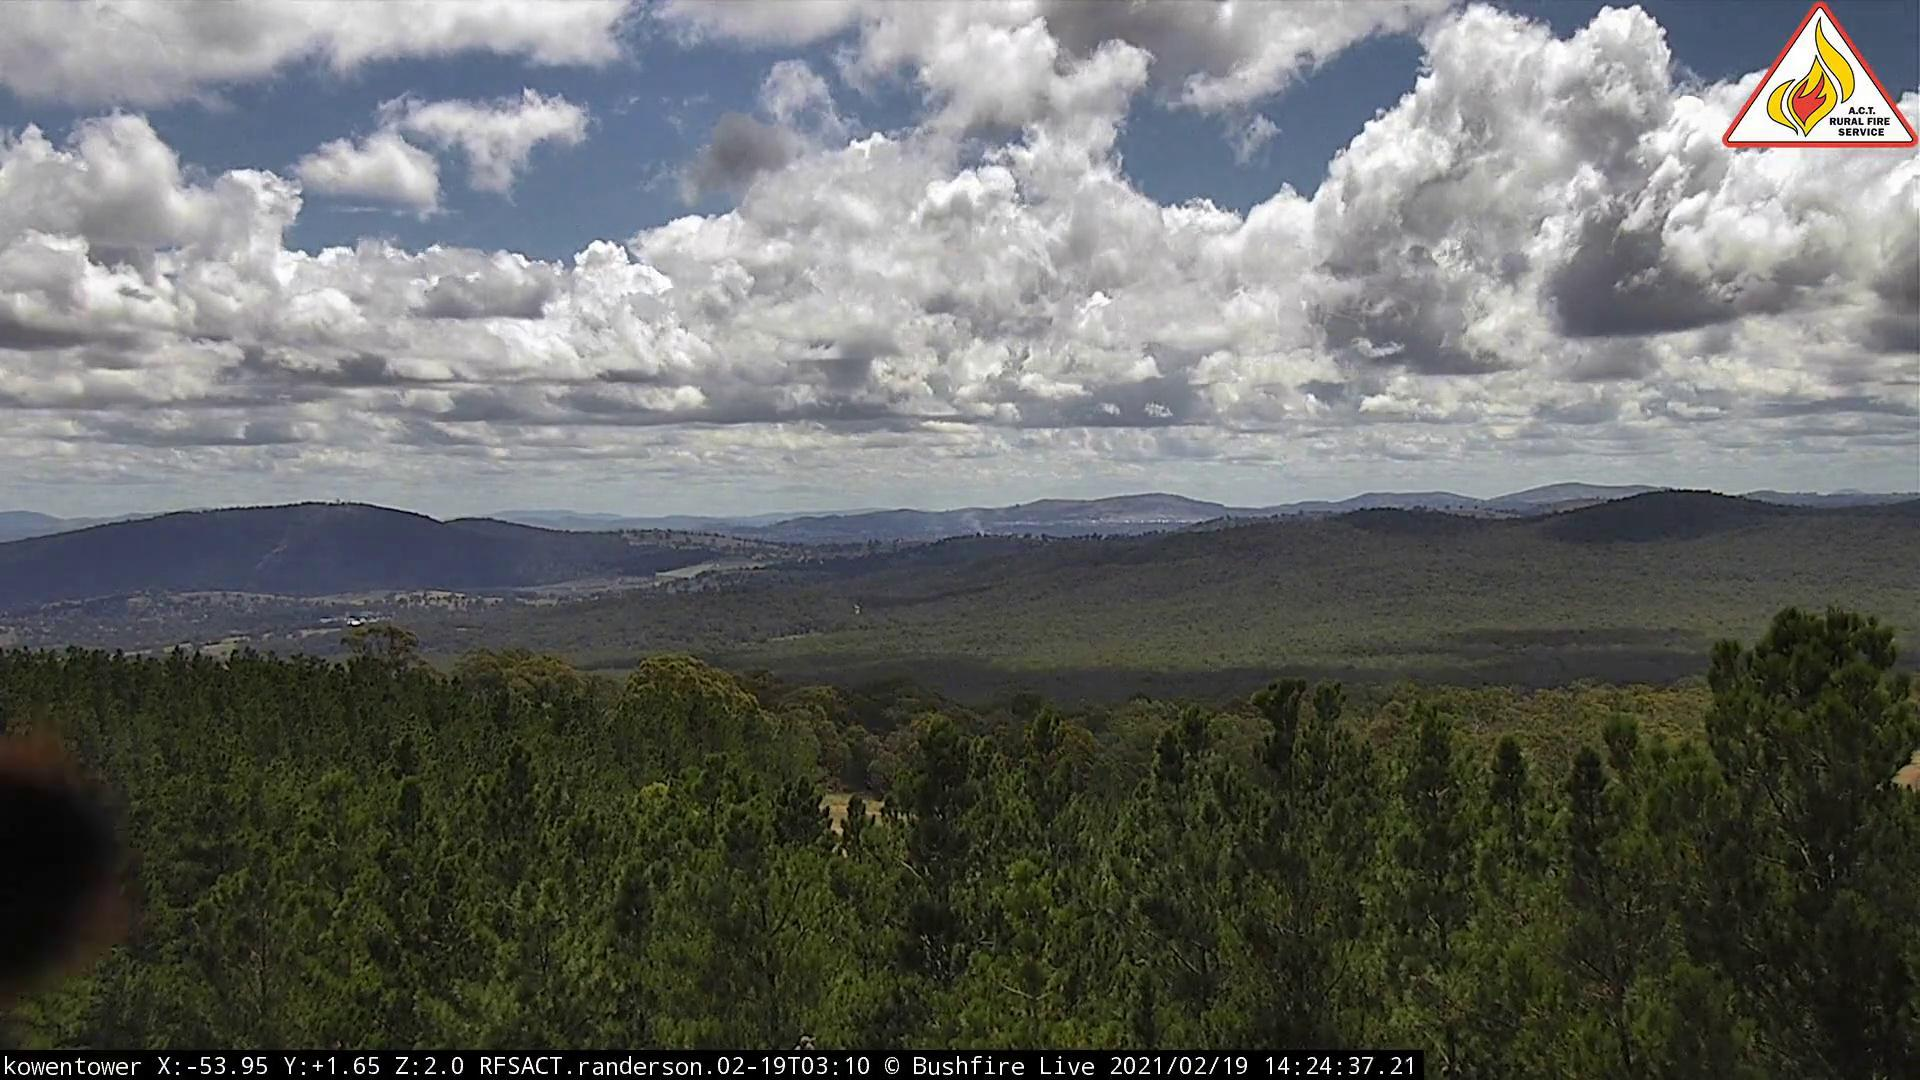instance_salient_object: (924, 481, 998, 549)
